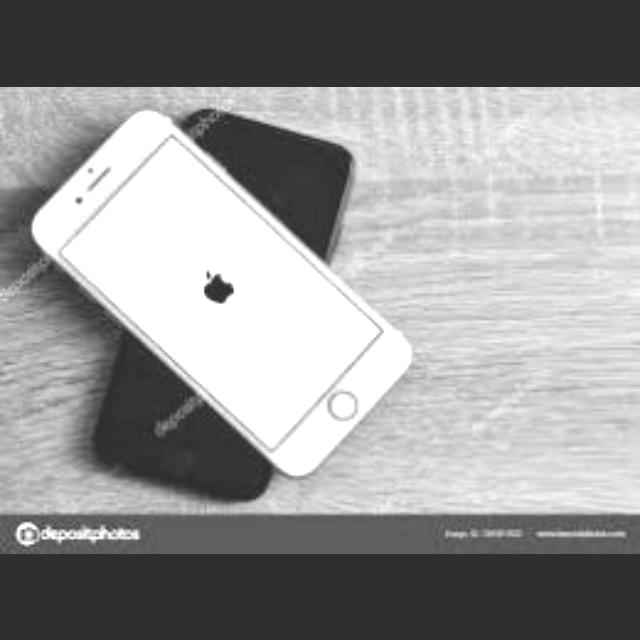fake: (16, 103, 356, 507)
